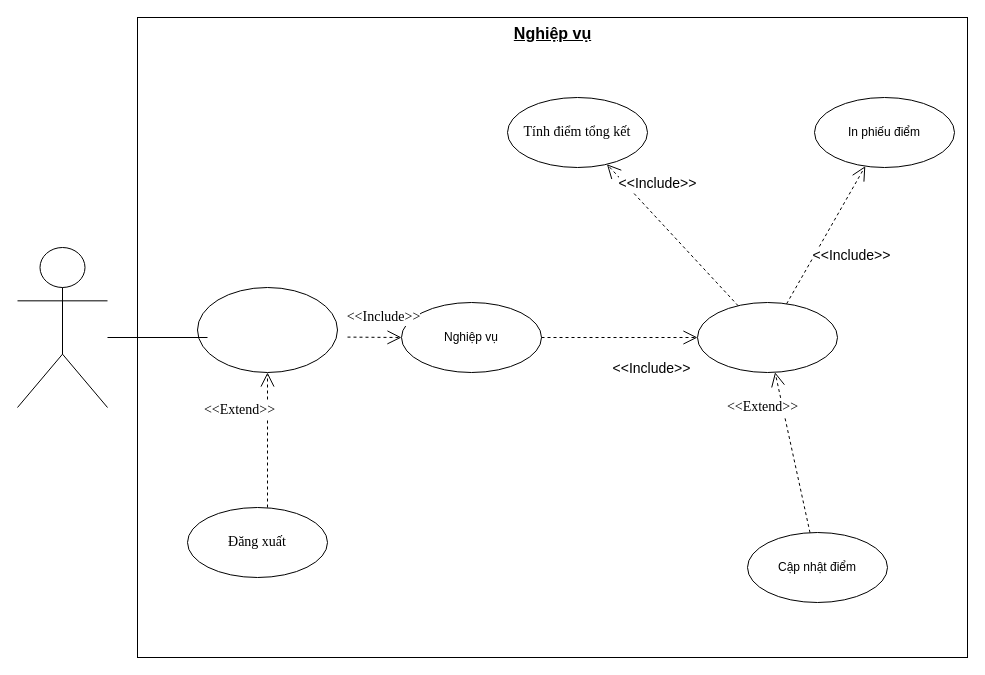
This 985x675 diagram has some shape labels left out. The centre of each missing label's shape, as x and y in pixels:
Giáo vụ: the point at 62,327
Nhập điểm: the point at 767,337
Đăng nhập: the point at 267,329
